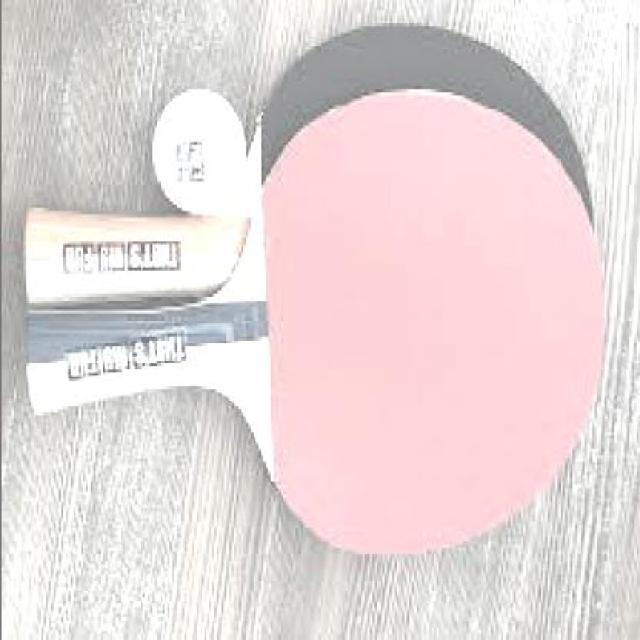table_tennis_racket: (227, 91, 611, 568)
